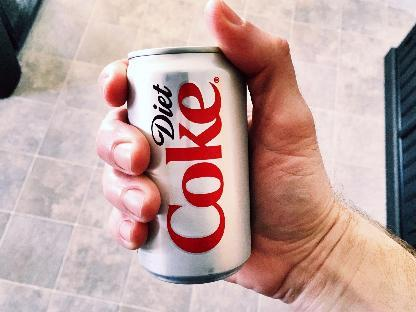Can: (124, 44, 252, 286)
